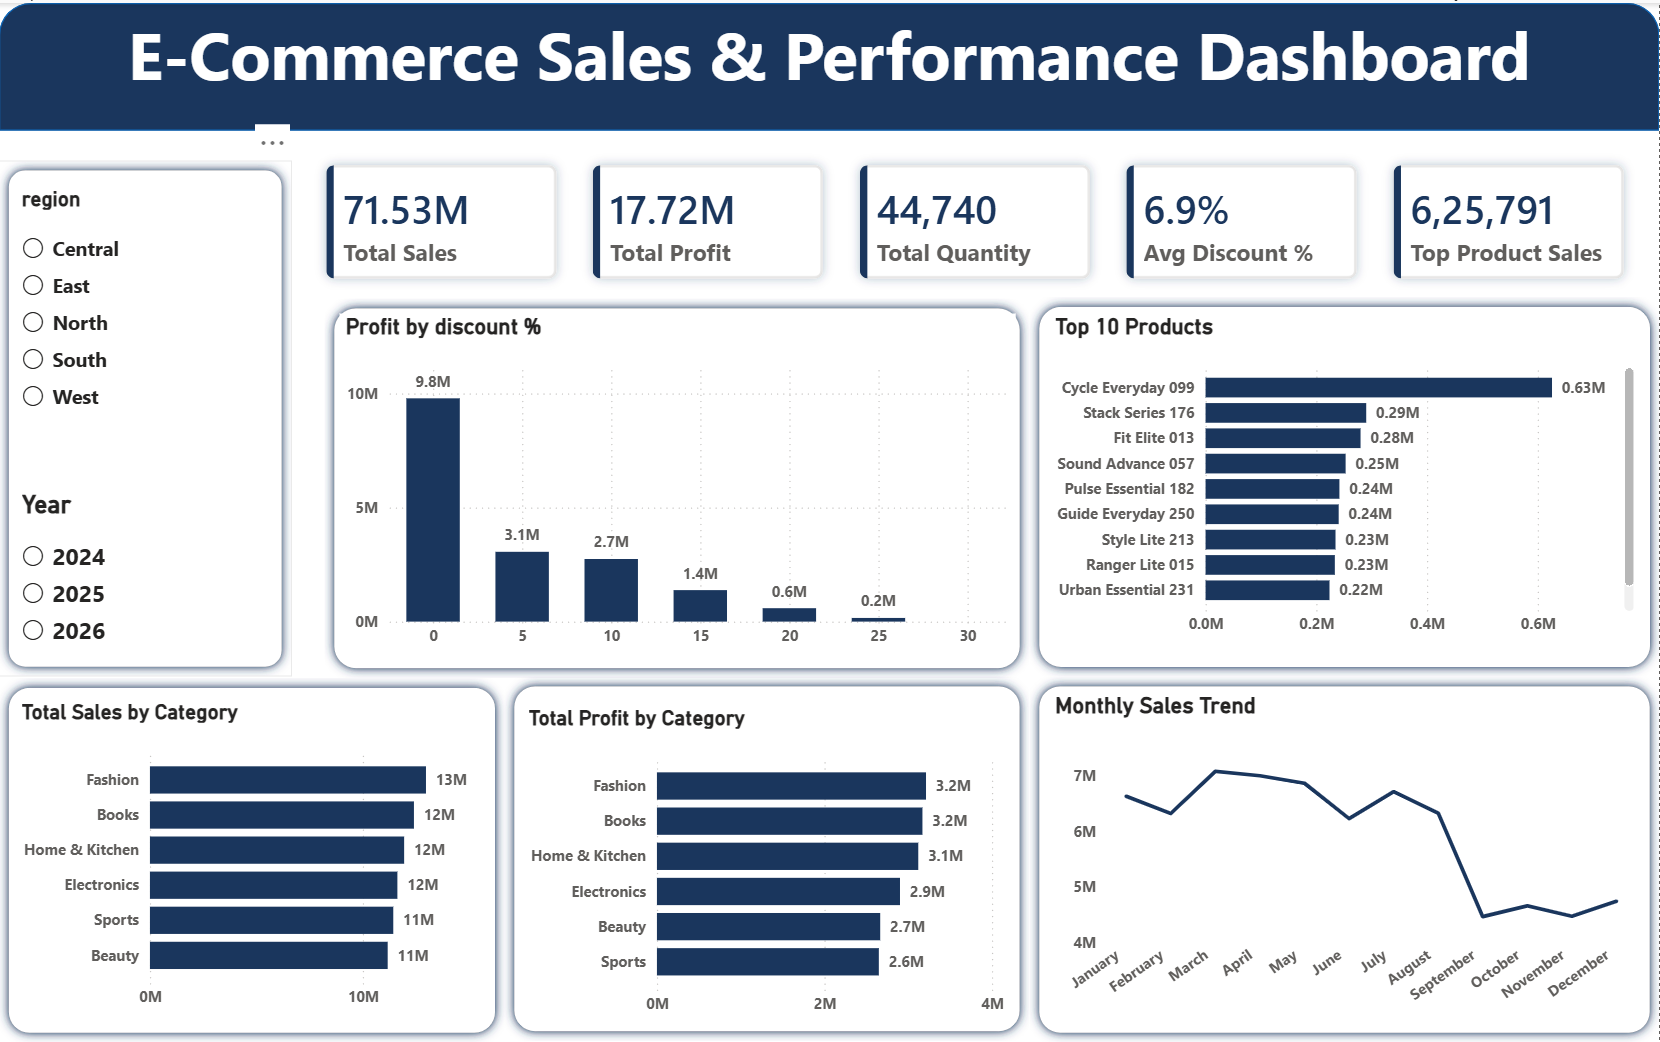

The page's visual inventory and layout, read from the dashboard file:
{"tool":"powerbi","page":{"name":"Sales & Product Analysis","canvas":[1350,845],"ordinal":1},"visuals":[{"type":"cardVisual","fields":{"Data":["_Measures.Total Sales","_Measures.Total Profit","_Measures.Total Quantity","_Measures.Average Discount %","_Measures.Top Product Sales"]},"box":[238.5,103.8,1112,148.3],"z":0},{"type":"shape","box":[0,0,1350.4,103.9],"z":1000},{"type":"textbox","box":[0,0,1350.4,103.9],"z":2000},{"type":"shape","box":[0,548.6,411.4,296.5],"z":3000},{"type":"barChart","title":"Total Sales by Category","fields":{"Y":["_Measures.Total Sales"],"Category":["products.category"]},"box":[13.4,566.1,386.7,260.7],"z":4000},{"type":"shape","box":[411.1,547.8,427,296.4],"z":5000},{"type":"barChart","title":"Total Profit by Category","fields":{"Category":["products.category"],"Y":["_Measures.Total Profit"]},"box":[425.8,570.9,396.5,261.1],"z":6000},{"type":"shape","box":[264.7,240.3,573.4,308.6],"z":7000},{"type":"shape","box":[837.7,239.7,512.7,308.9],"z":8000},{"type":"columnChart","title":" Profit by discount %","fields":{"Y":["_Measures.Total Profit"],"Category":["order_items.discount_pct"]},"box":[276.9,252.5,550.2,280.6],"z":9000},{"type":"shape","box":[838.1,547.8,512.4,297.7],"z":10000},{"type":"barChart","title":"Top 10 Products","fields":{"Category":["products.product_name"],"Y":["_Measures.Total Sales"]},"box":[854,252.5,480.7,270.8],"z":11000},{"type":"lineChart","title":"Monthly Sales Trend","fields":{"Y":["_Measures.Total Sales"],"Category":["DateTable.Month"]},"box":[854,561.2,480.7,270.8],"z":12000},{"type":"shape","box":[0,128.1,237.9,419.7],"z":13000},{"type":"listSlicer","fields":{"Values":["DateTable.Year"]},"box":[13.4,395.3,208.6,139.1],"z":14000},{"type":"listSlicer","fields":{"Values":["locations.region"]},"box":[13.4,148.8,198.9,240.1],"z":15000}]}

Visuals, with their boxes in screenshot pixels (x1, y1, x2, y2), scaled from the page's 1350x845 canvas onto the 1660x1042 screenshot:
cardVisual - _Measures.Total Sales x _Measures.Total Profit: (x1=293, y1=128, x2=1659, y2=311)
shape: (x1=0, y1=0, x2=1659, y2=128)
textbox: (x1=0, y1=0, x2=1659, y2=128)
shape: (x1=0, y1=676, x2=506, y2=1041)
"Total Sales by Category" barChart: (x1=16, y1=698, x2=492, y2=1020)
shape: (x1=506, y1=676, x2=1031, y2=1041)
"Total Profit by Category" barChart: (x1=524, y1=704, x2=1011, y2=1026)
shape: (x1=325, y1=296, x2=1031, y2=677)
shape: (x1=1030, y1=296, x2=1659, y2=676)
" Profit by discount %" columnChart: (x1=340, y1=311, x2=1017, y2=657)
shape: (x1=1031, y1=676, x2=1659, y2=1041)
"Top 10 Products" barChart: (x1=1050, y1=311, x2=1641, y2=645)
"Monthly Sales Trend" lineChart: (x1=1050, y1=692, x2=1641, y2=1026)
shape: (x1=0, y1=158, x2=293, y2=676)
listSlicer - DateTable.Year: (x1=16, y1=487, x2=273, y2=659)
listSlicer - locations.region: (x1=16, y1=183, x2=261, y2=480)
